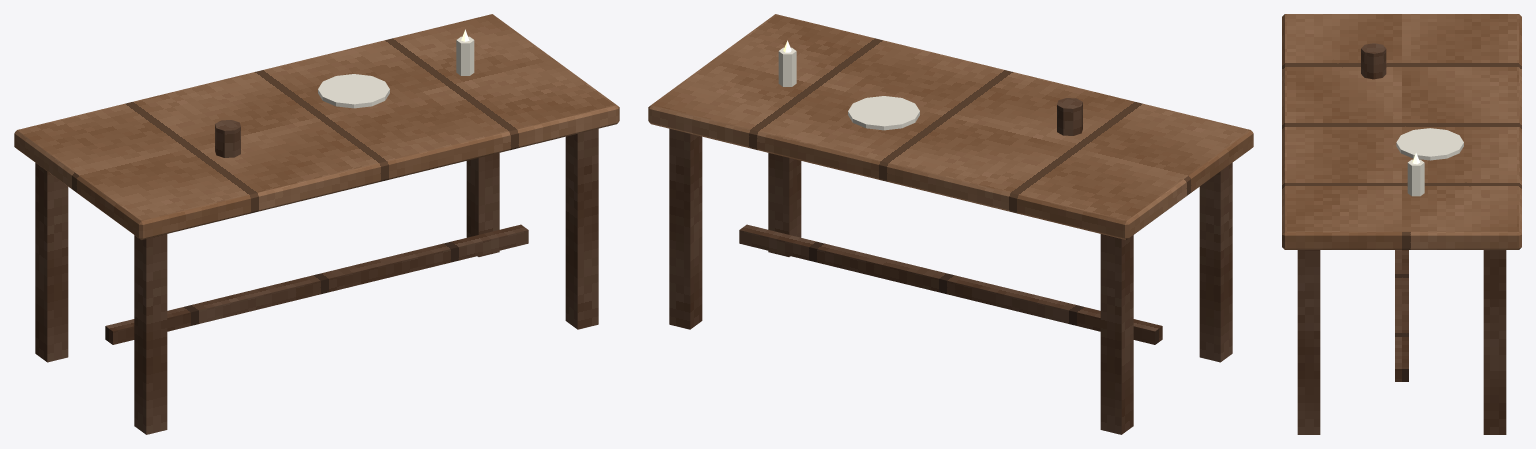
Rendered from table_wood.glb.
3 views of the same model, side by side, from view 1: azimuth 30°, elevation 25°; view 2: azimuth 150°, elevation 25°; view 3: azimuth 270°, elevation 25° (orthographic). The views are drawn at different scales.
Parts seen in each view (by area): view 1: body; view 2: body; view 3: body.
Boxes of the visible parts, x1,y1,x2,y2 form: body: (14, 14, 619, 434); body: (648, 14, 1253, 434); body: (1282, 14, 1521, 434).
Bounding box in the file's own units: 1.85 × 0.98 × 0.85.
Materials: 5 (2 with a texture image).
